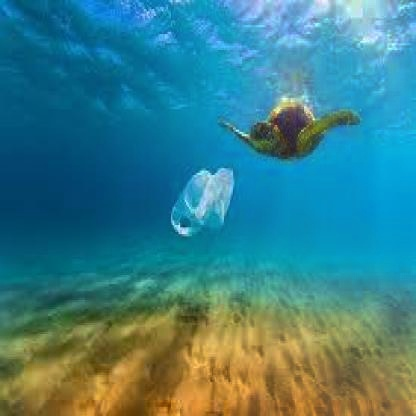pbag: (169, 166, 236, 239)
